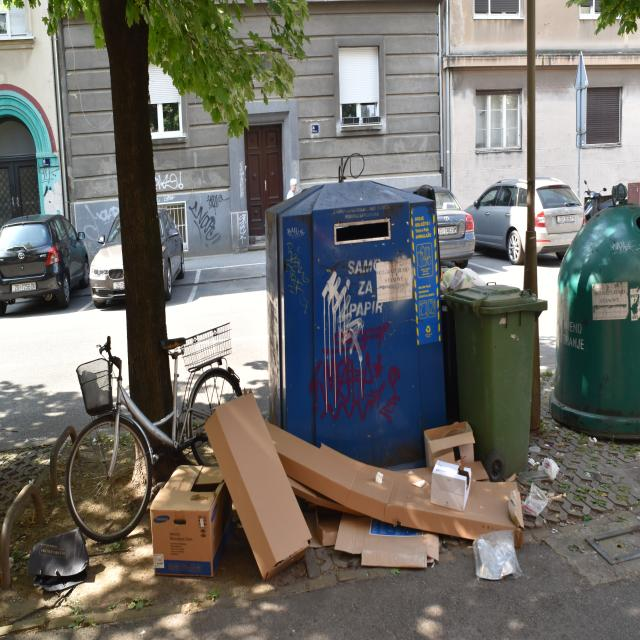entulho: (277, 415, 535, 568), (206, 393, 314, 577), (149, 458, 231, 580)
lixo domiciliar: (474, 531, 521, 579), (441, 267, 485, 292), (526, 484, 548, 518), (543, 456, 560, 480)
